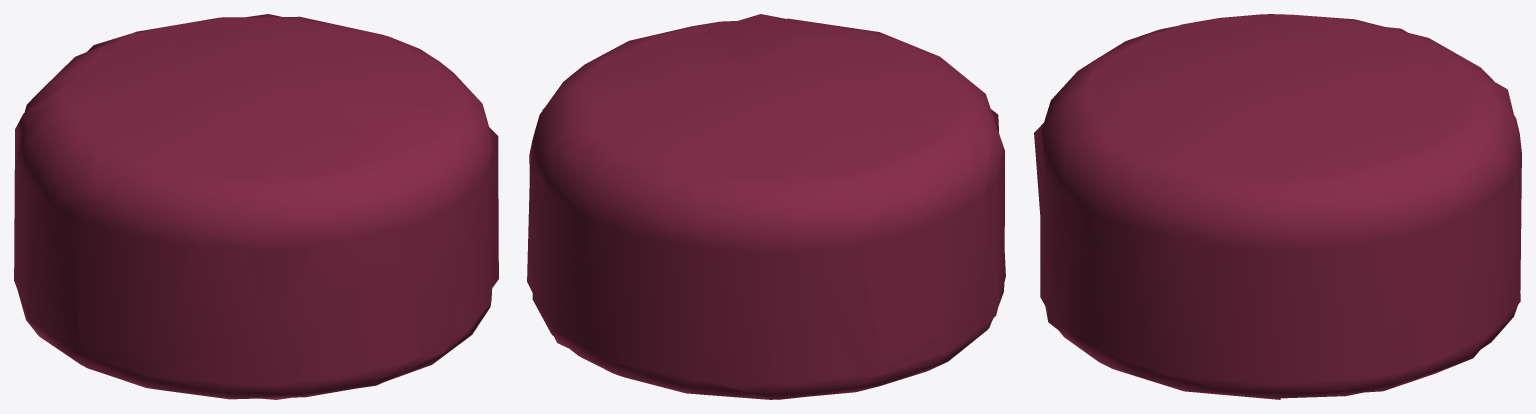
File: layer-velvet.low.glb
The picture shows the model from 3 angles, left to right: view 1: azimuth 30°, elevation 25°; view 2: azimuth 150°, elevation 25°; view 3: azimuth 270°, elevation 25°; orthographic projection.
Visible parts, largest first — view 1: velvet (×2); view 2: velvet (×2); view 3: velvet (×2).
Part boxes in pixels (x1,y1,x2,y2): velvet (×2): (14,14,498,399); velvet (×2): (527,14,1005,399); velvet (×2): (1034,14,1521,399).
Size of the model in its own units: 0.9111 by 0.4619 by 0.9101.
